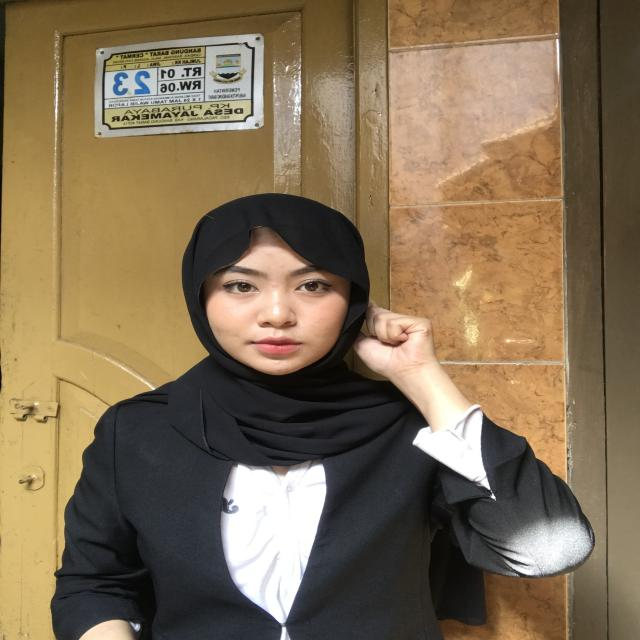ibu: (328, 292, 472, 429)
